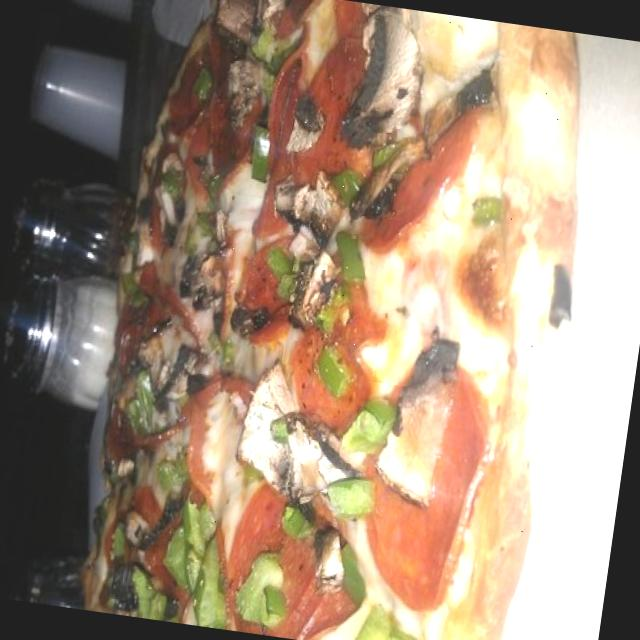Bell Pepper: (150, 490, 247, 630), (304, 219, 370, 347), (223, 542, 300, 638), (338, 378, 411, 471), (242, 5, 306, 89), (302, 332, 364, 410), (236, 118, 282, 200), (322, 468, 381, 531), (189, 166, 230, 250), (123, 561, 178, 622), (274, 485, 326, 549), (316, 159, 368, 221), (460, 177, 511, 238), (121, 373, 162, 446), (150, 446, 200, 501), (182, 53, 220, 120), (108, 267, 153, 323), (348, 608, 421, 640), (367, 133, 411, 180), (100, 514, 131, 559), (156, 170, 186, 210)
mushrooms: (350, 58, 507, 233), (224, 358, 366, 516), (248, 152, 356, 346), (372, 323, 467, 513), (337, 2, 432, 147), (198, 0, 283, 125), (125, 324, 222, 424), (165, 244, 241, 332), (141, 142, 192, 250), (96, 544, 152, 618)
pepperoni: (356, 329, 494, 616), (344, 54, 498, 284), (208, 482, 376, 640), (288, 0, 397, 222), (270, 250, 390, 451), (230, 44, 327, 265), (155, 58, 264, 222), (170, 362, 268, 520), (106, 289, 199, 454), (226, 228, 308, 352), (131, 487, 214, 597)
pizza: (82, 0, 577, 640)
